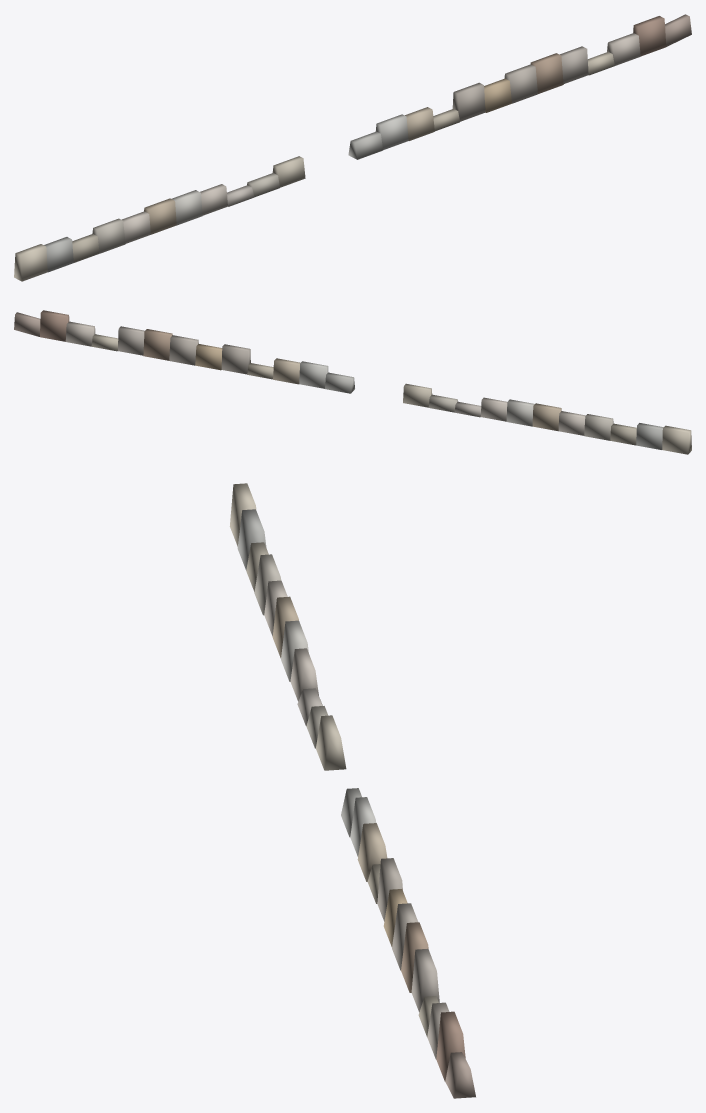
File: farm_-34_-41_collision.glb
3 renders of one model, top to bottom at view 1: azimuth 30°, elevation 25°; view 2: azimuth 150°, elevation 25°; view 3: azimuth 270°, elevation 25°, orthographic. The views are drawn at different scales.
Visible parts, largest first — view 1: geometry_0; view 2: geometry_0; view 3: geometry_0.
Part boxes in pixels (<box>): geometry_0: <box>14,14,691,281</box>; geometry_0: <box>14,310,691,454</box>; geometry_0: <box>229,483,475,1098</box>.
Size of the model in its own units: 41.06 by 2.26 by 7.07.
